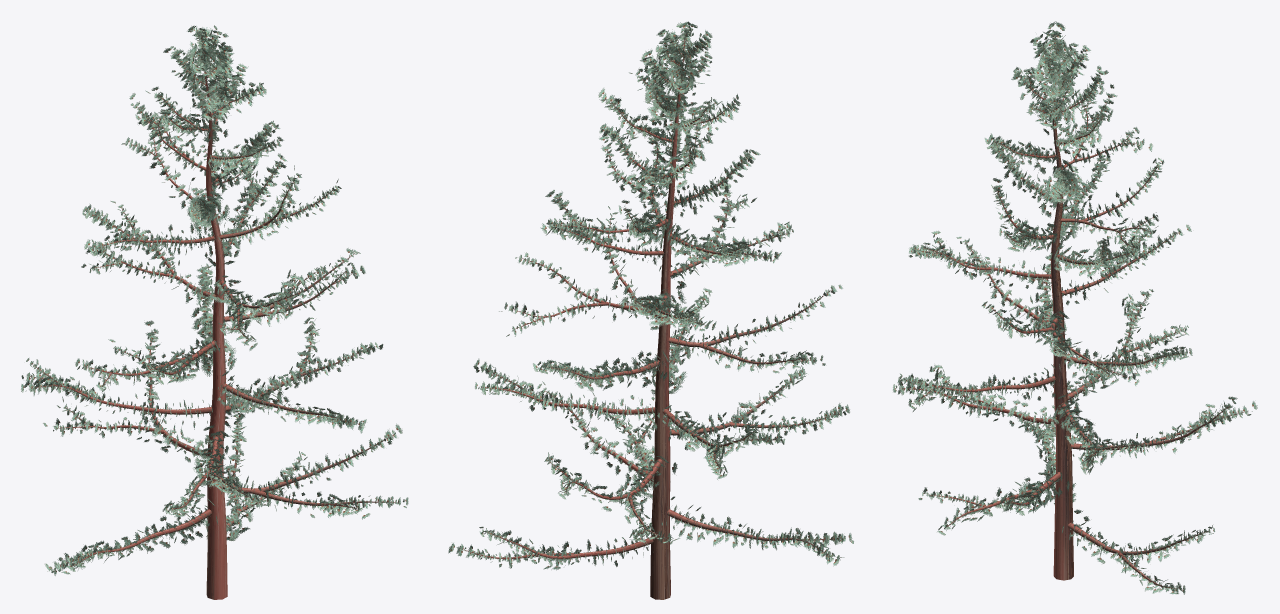
Rendered from tree2.fbx.
The picture shows the model from 3 angles, left to right: view 1: azimuth 30°, elevation 25°; view 2: azimuth 150°, elevation 25°; view 3: azimuth 270°, elevation 25°; orthographic projection. The views are drawn at different scales.
Parts seen in each view (by area): view 1: leaves, tree; view 2: leaves, tree; view 3: leaves, tree.
Part boxes in pixels (x1,y1,x2,y2): leaves: (21, 25, 408, 575); tree: (30, 37, 397, 599); leaves: (448, 21, 853, 570); tree: (462, 34, 841, 599); leaves: (893, 21, 1257, 594); tree: (902, 35, 1244, 588).
Size of the model in its own units: 345 by 528 by 328.
